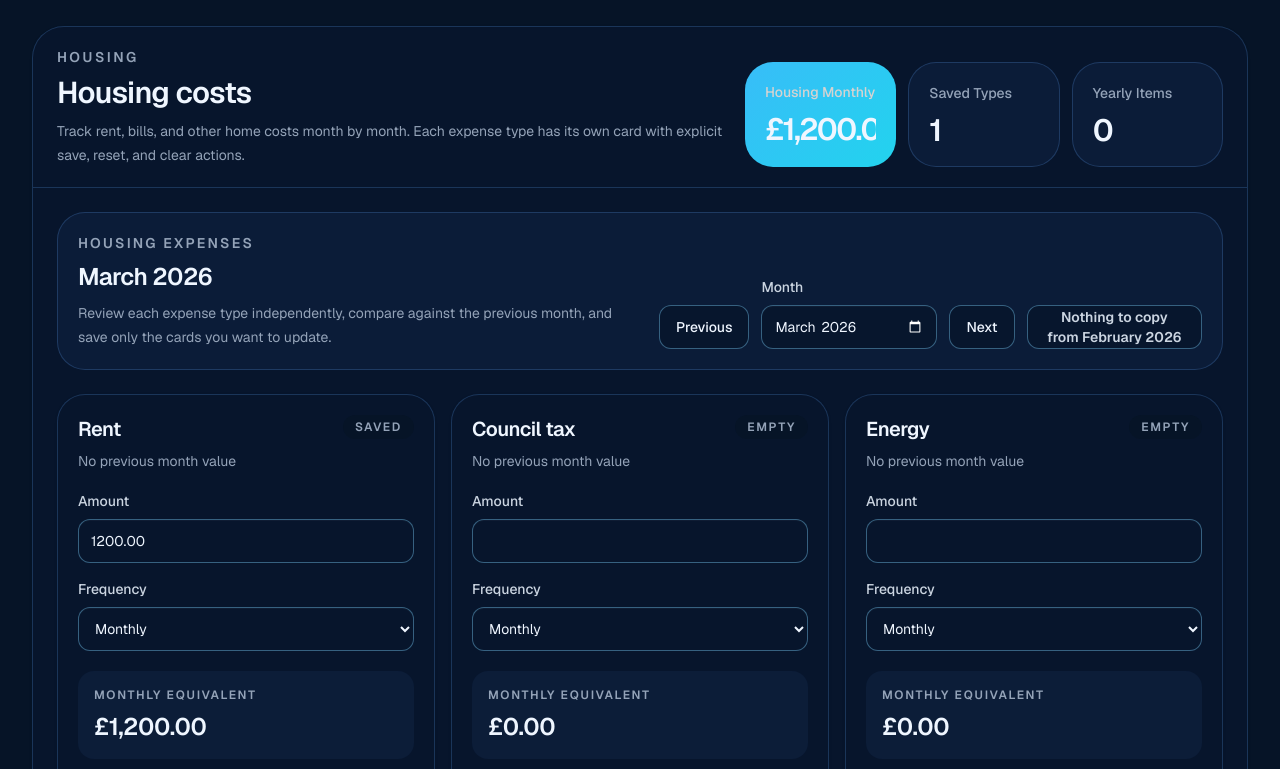
Scenario: [Component] housing view › should keep edits local until Save is clicked
Replace the text in the 1st number field labelled "Amount" with "1300": (246, 541) [78,519,414,563]
(page scrolled)
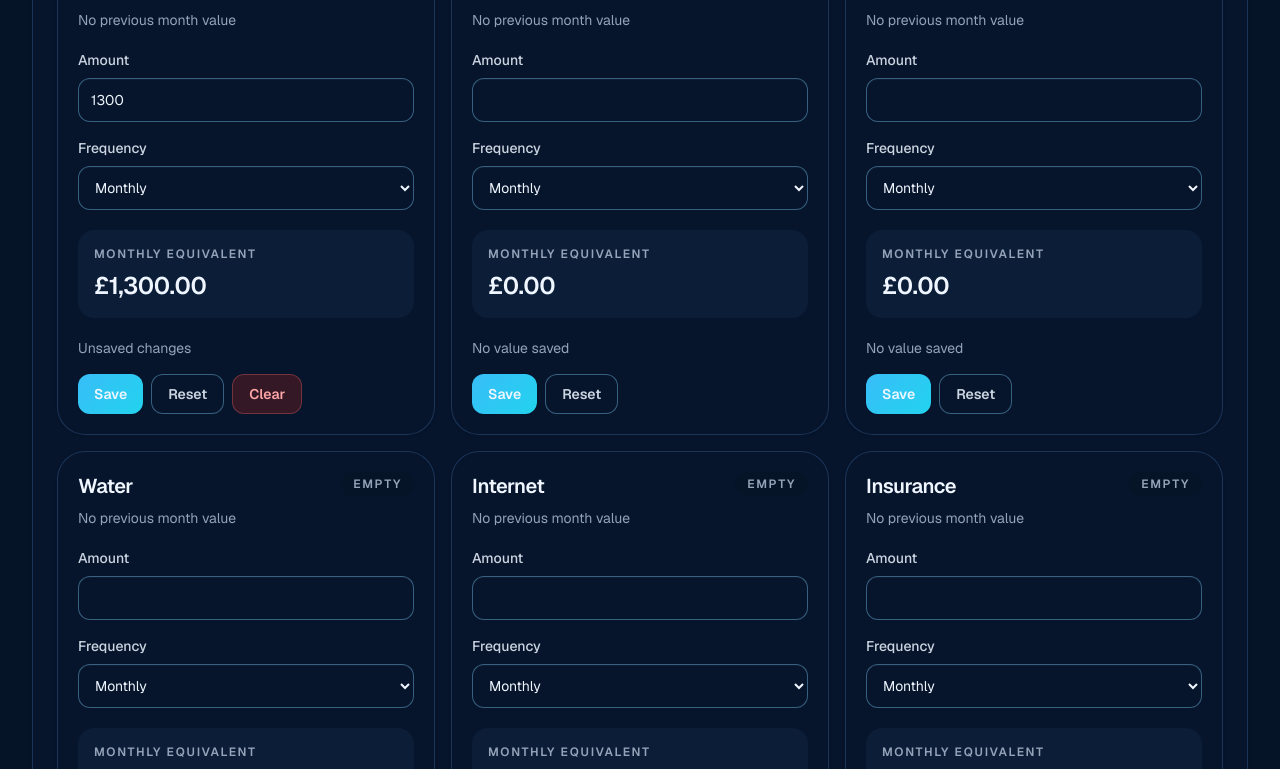
Check: the text "Unsaved changes" is shown, box [78,339,191,357]
Click the button "Save" below "Unsaved changes": (111, 394) [78,374,143,414]
(page scrolled)
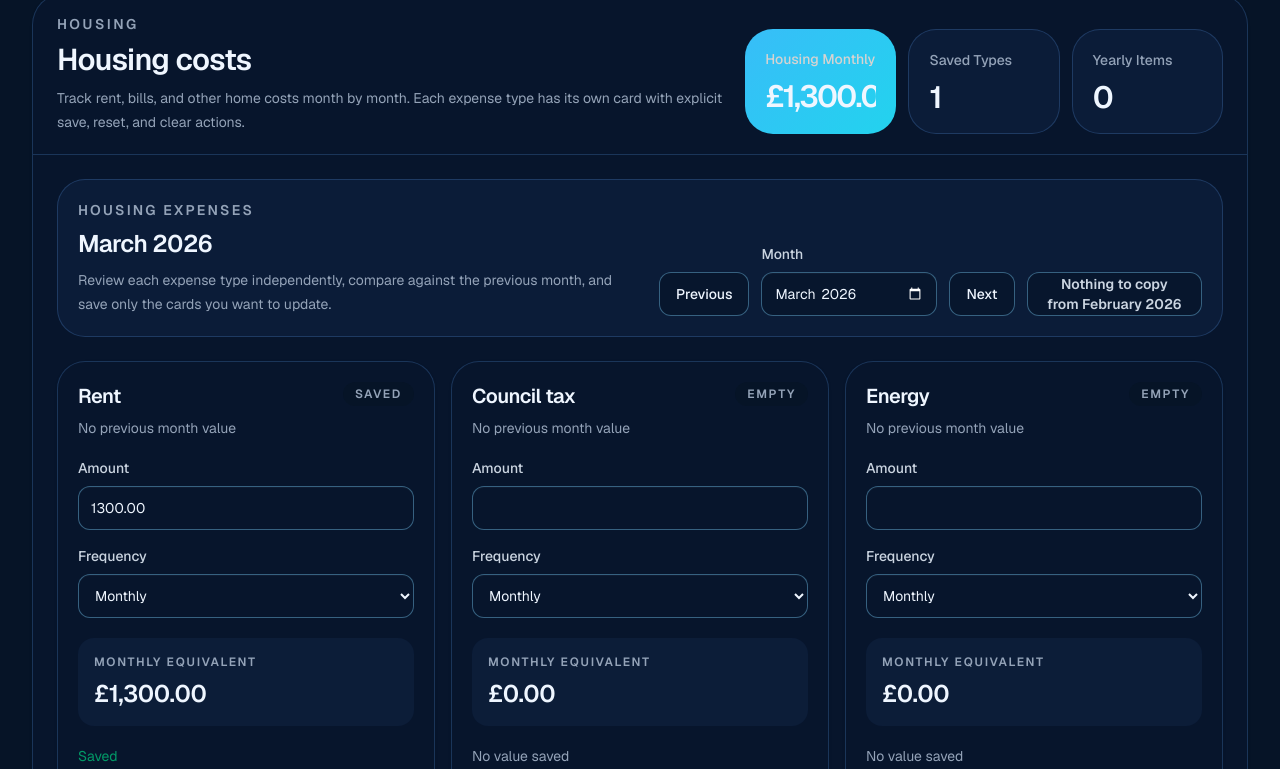
Check: the 1st text "Saved" is shown, box [343,382,414,406]
Check: the 1st number field showing "1300.00" is shown, box [78,486,414,530]
